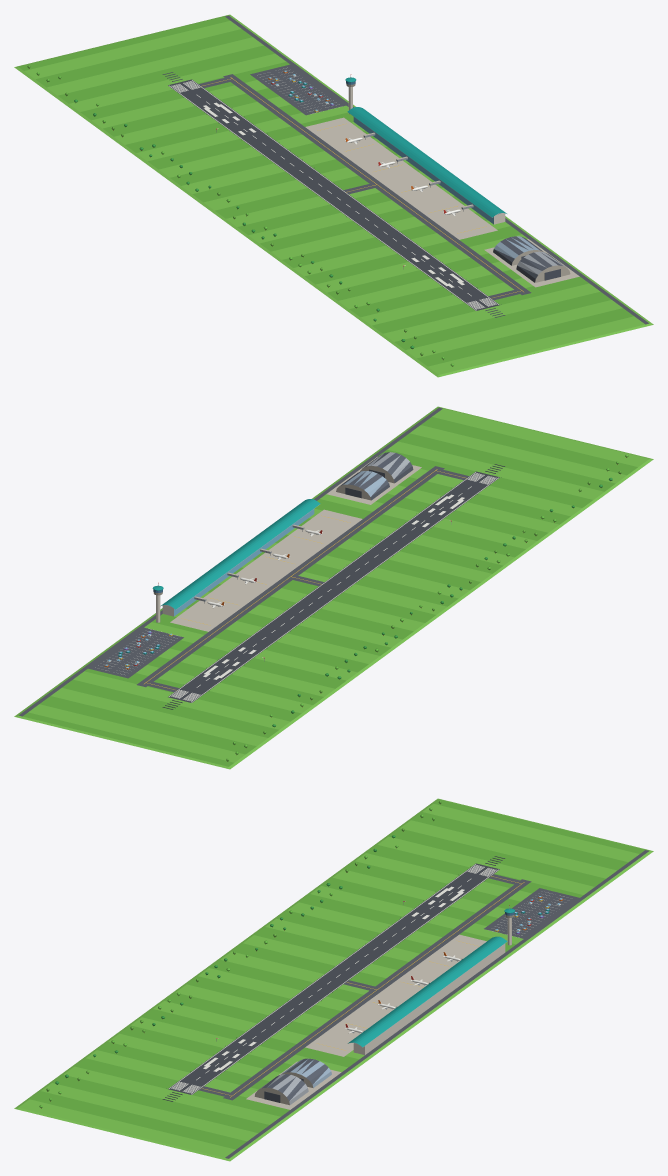
Rendered from AeropuertoCiudad.fbx.
3 renders of one model, top to bottom at view 1: azimuth 30°, elevation 25°; view 2: azimuth 150°, elevation 25°; view 3: azimuth 330°, elevation 25°, orthographic.
Parts seen in each view (by area): view 1: AeropuertoCiudad; view 2: AeropuertoCiudad; view 3: AeropuertoCiudad.
Part boxes in pixels (x1,y1,x2,y2): AeropuertoCiudad: [14, 14, 653, 377]; AeropuertoCiudad: [14, 406, 653, 769]; AeropuertoCiudad: [14, 798, 653, 1161].
Bounding box in the file's own units: 534 × 94.5 × 1814.
Materials: 1 (1 with a texture image).
